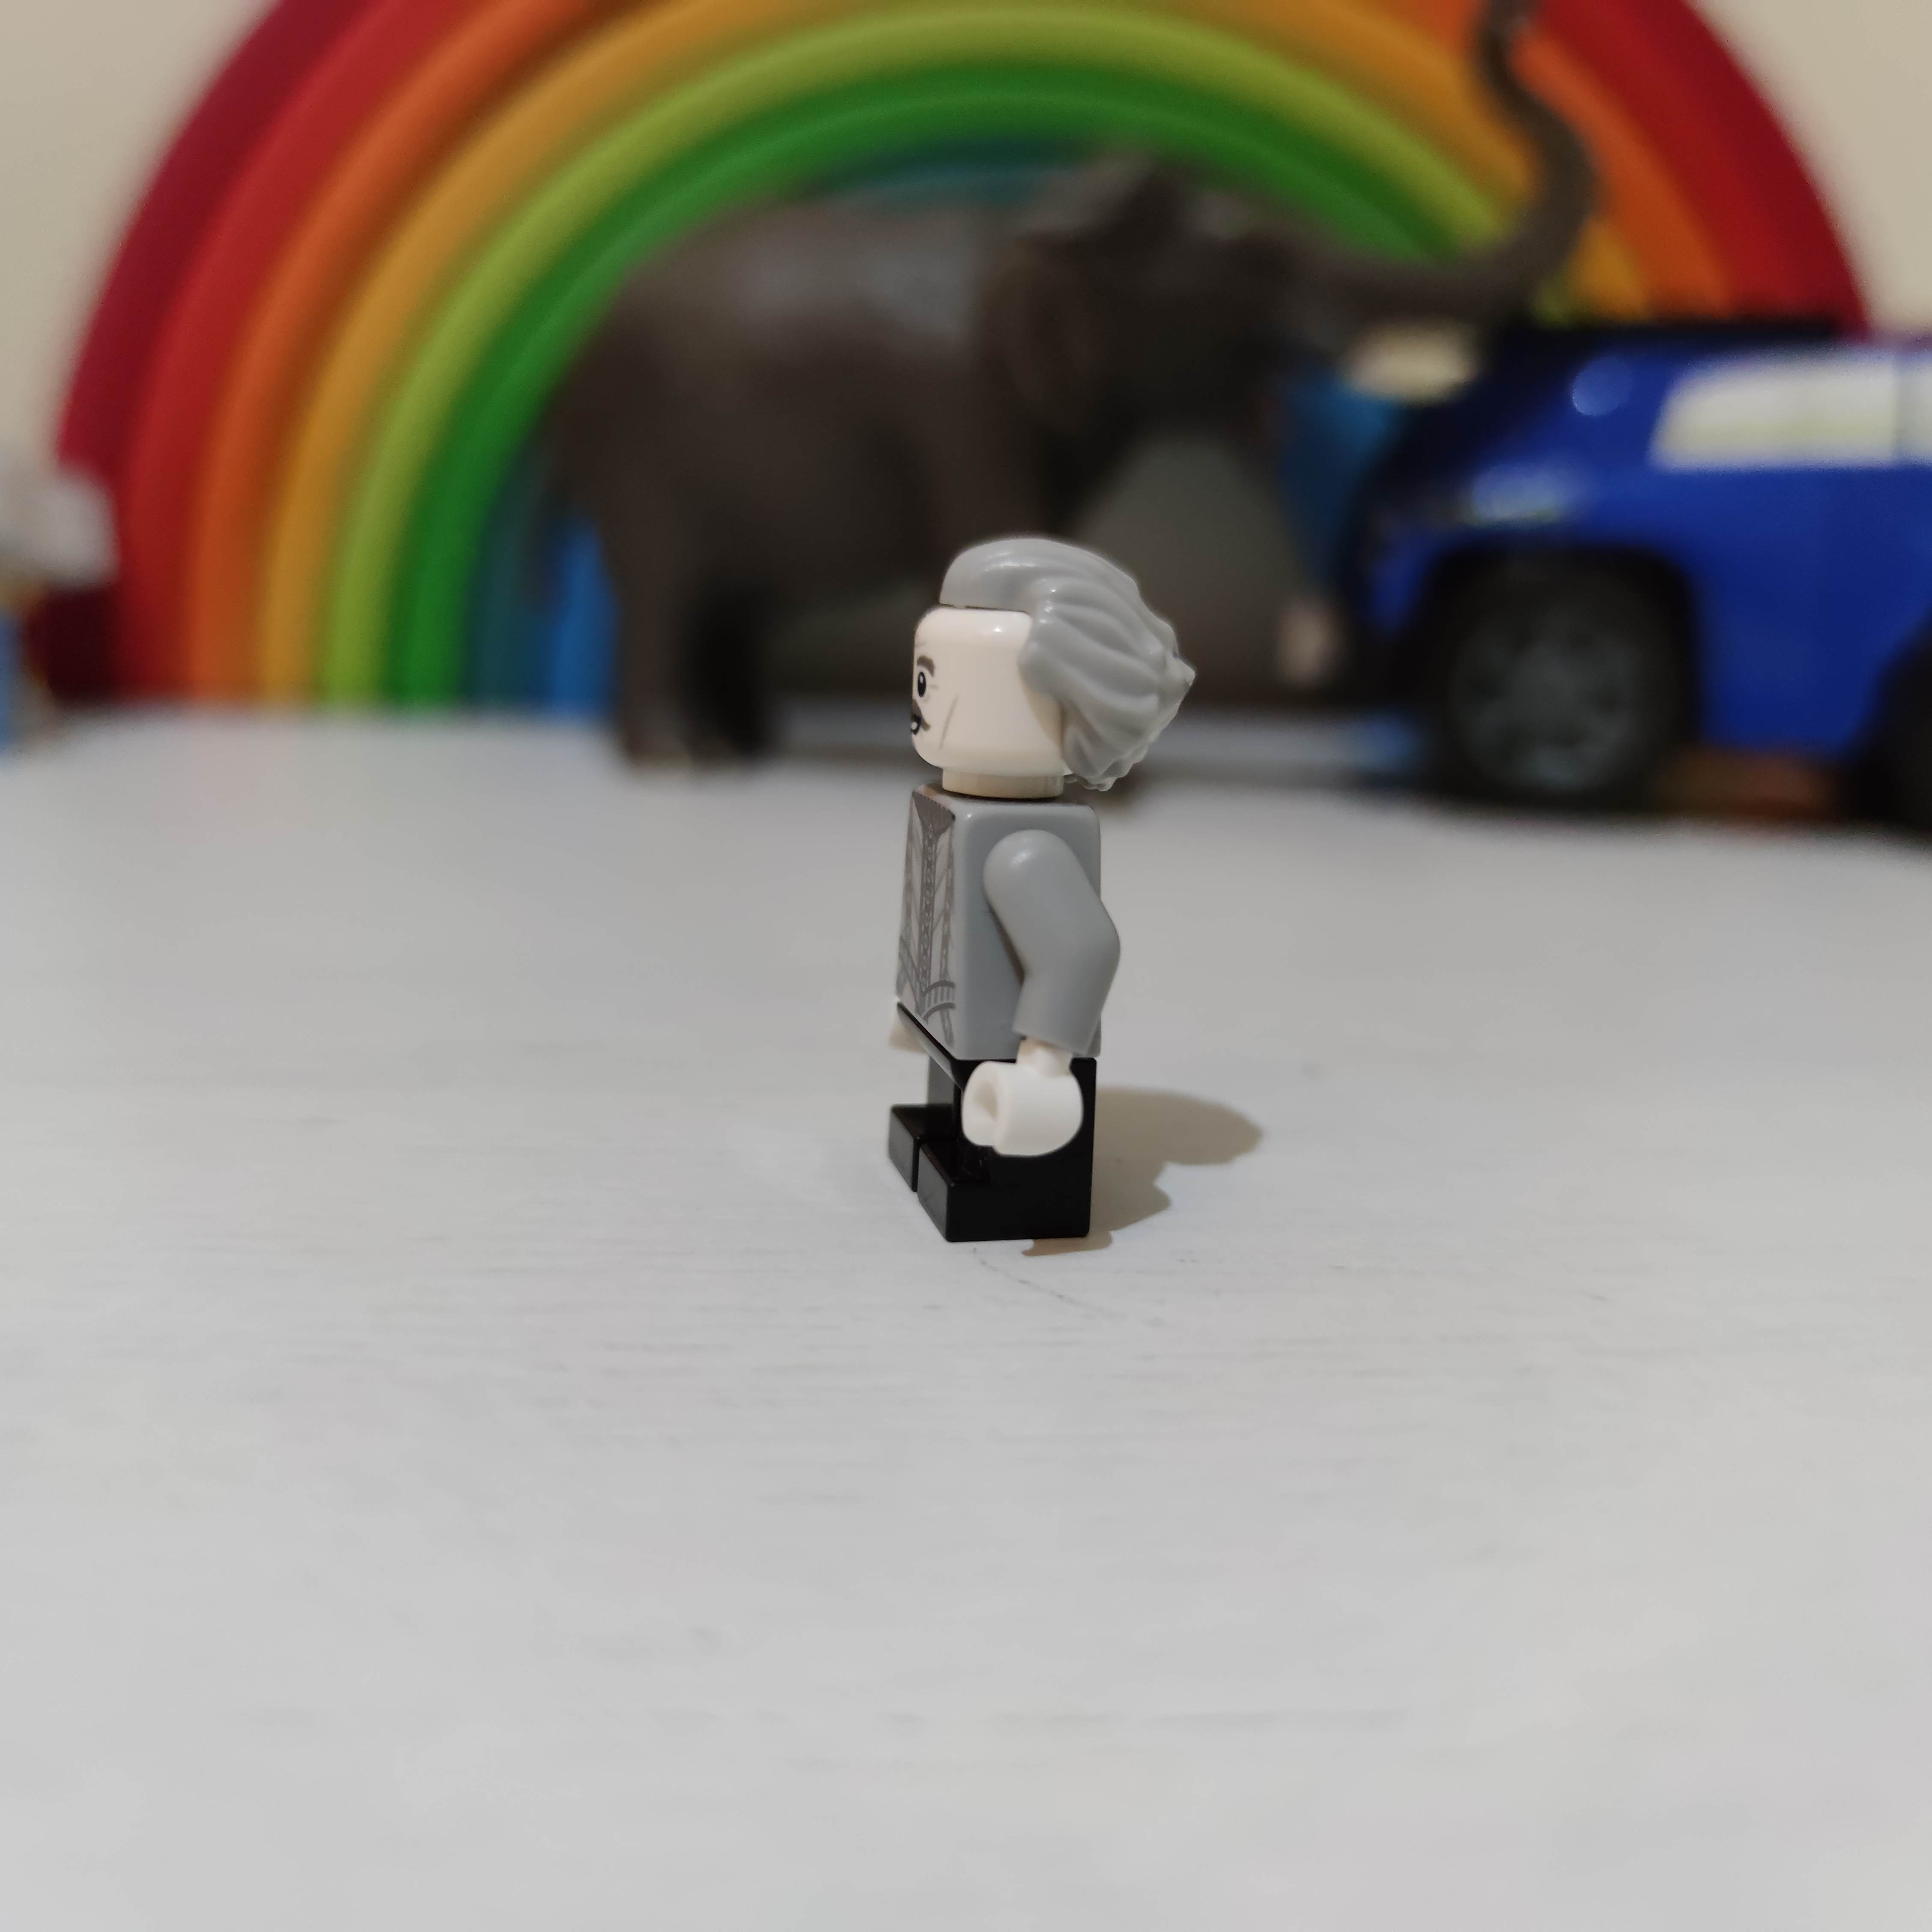lego: (867, 531, 1200, 1246)
